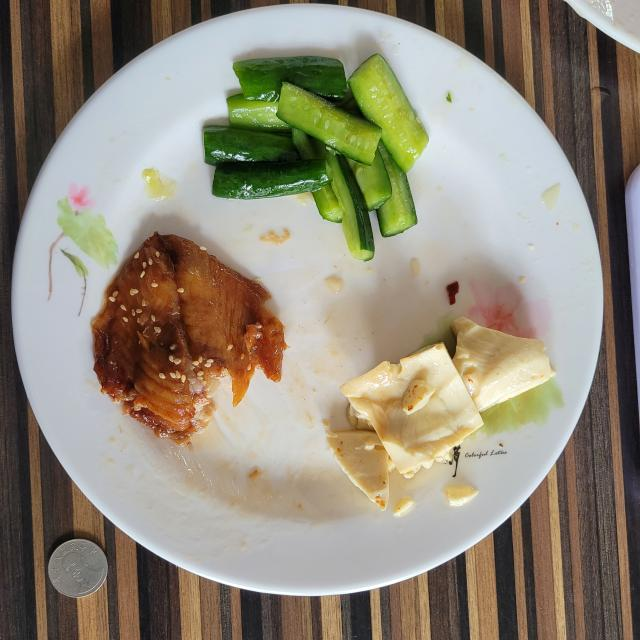Kabayaki sea bream fillet: (92, 232, 286, 442)
coin: (48, 539, 108, 598)
cucumber: (205, 54, 429, 260)
